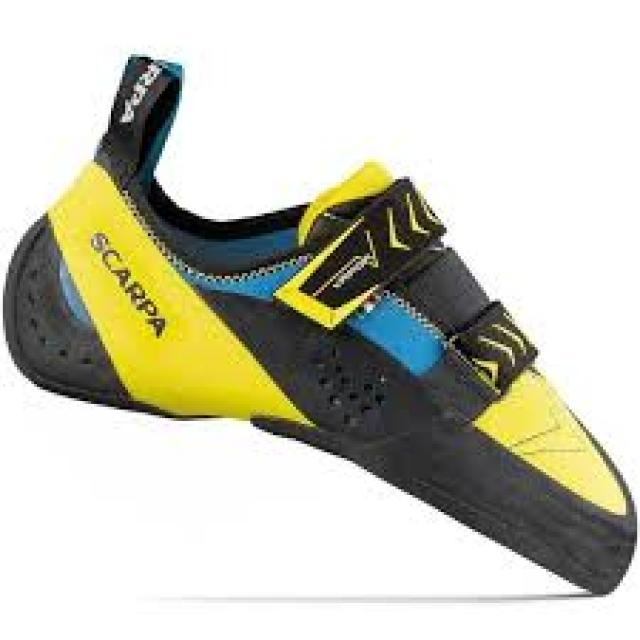climbing-shoes: (5, 52, 638, 599)
